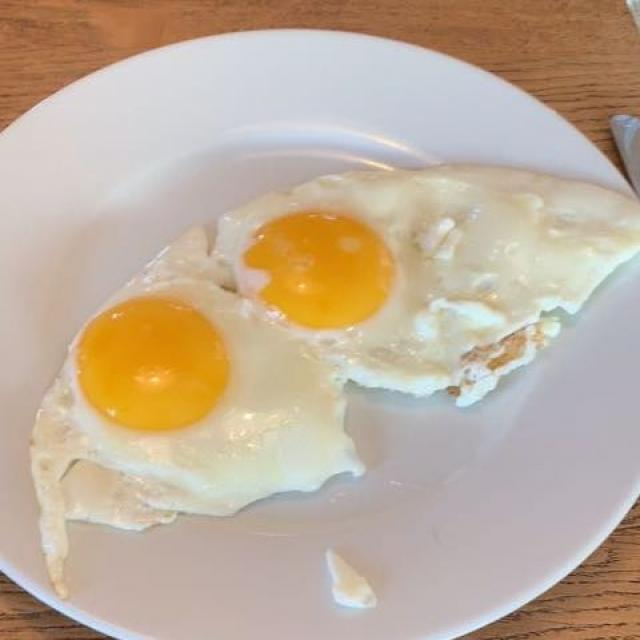egg: (53, 169, 626, 526)
